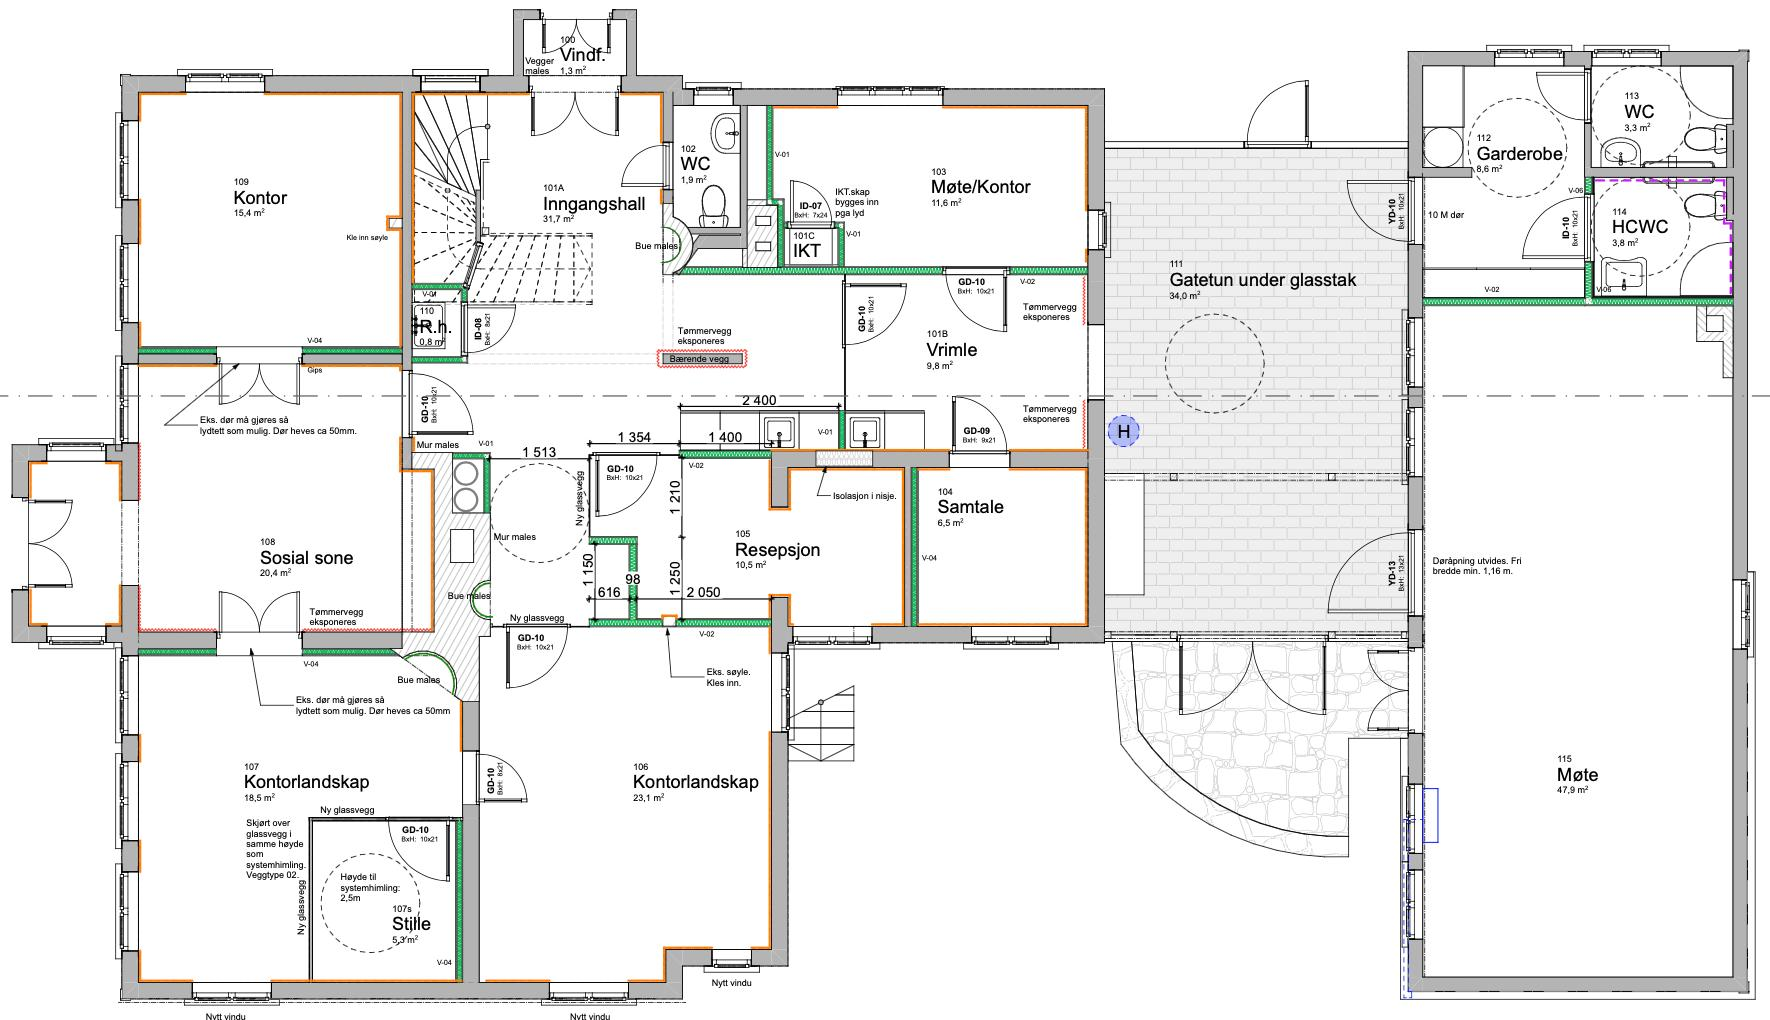room: (1416, 303, 1741, 986), (131, 641, 467, 990), (470, 626, 780, 991), (1097, 145, 1414, 477), (131, 354, 407, 639), (131, 89, 404, 349), (771, 102, 1092, 269), (1100, 475, 1415, 638), (844, 269, 1093, 453), (1415, 60, 1588, 303), (911, 460, 1094, 635), (596, 453, 776, 625), (776, 460, 909, 635), (19, 450, 129, 638), (1590, 170, 1736, 302), (1588, 60, 1736, 173), (667, 95, 743, 242), (408, 286, 464, 360)
